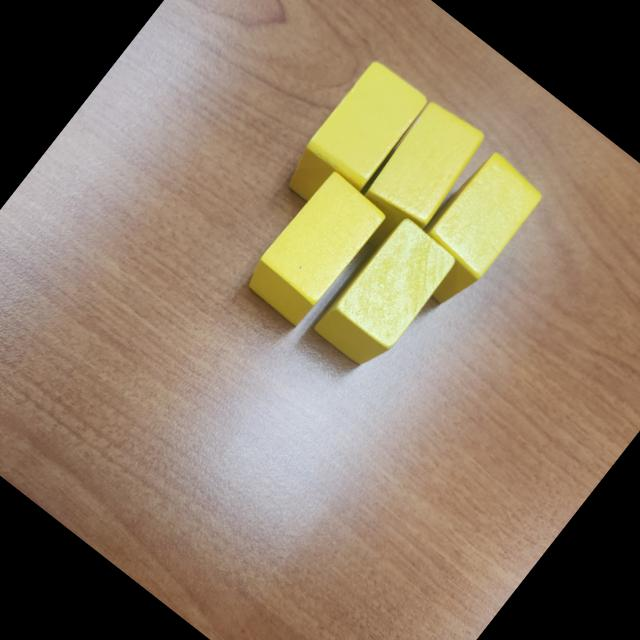yellow: (335, 93, 494, 267), (276, 56, 432, 225), (393, 146, 548, 315), (310, 212, 462, 376), (240, 168, 390, 330)
